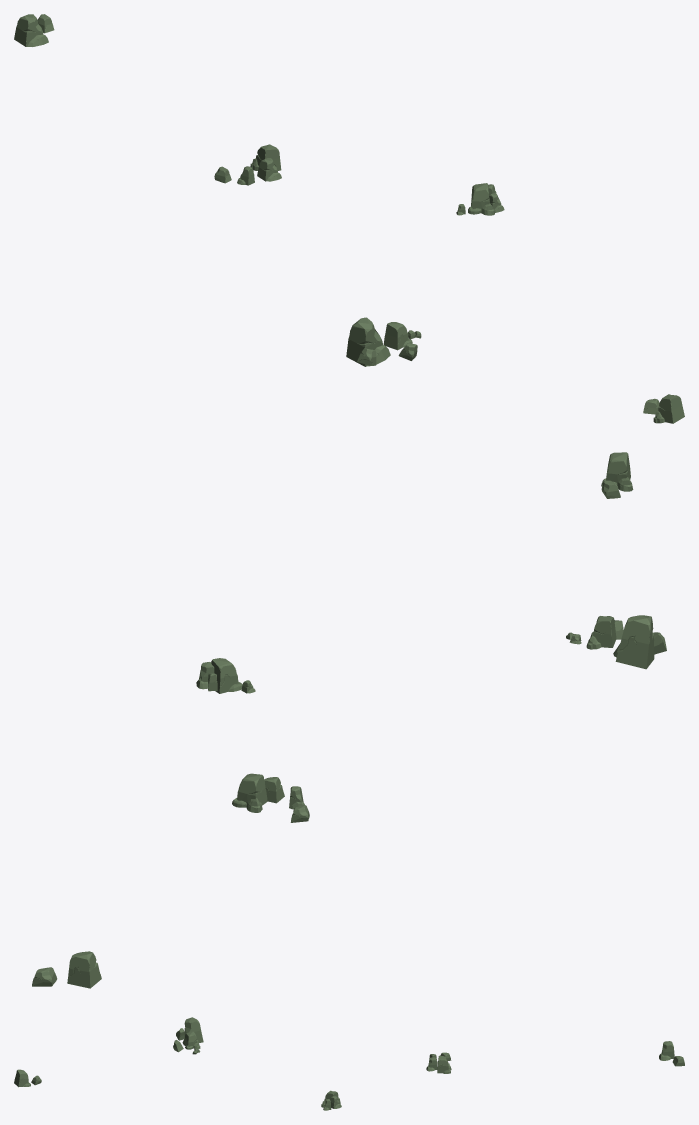
Rendered from Rock Blue.fbx.
3 views of the same model, one above another, from view 1: azimuth 30°, elevation 25°; view 2: azimuth 150°, elevation 25°; view 3: azimuth 270°, elevation 25° (orthographic). The views are drawn at different scales.
Visible parts, largest first — view 1: Rock_Blue.007, Rock_Blue.004, Rock_Blue.012, Rock_Blue.014; view 2: Rock_Blue.007, Rock_Blue, Rock_Blue.004, Rock_Blue.012; view 3: Rock_Blue.007, Rock_Blue.004, Rock_Blue.006, Rock_Blue.012, Rock_Blue.
Part boxes in pixels (left/top/right/bottom): Rock_Blue.007: left=346, top=317, right=390, bottom=366; Rock_Blue.004: left=14, top=14, right=48, bottom=46; Rock_Blue.012: left=653, top=394, right=684, bottom=423; Rock_Blue.014: left=468, top=183, right=494, bottom=215; Rock_Blue.007: left=613, top=615, right=654, bottom=669; Rock_Blue: left=232, top=773, right=267, bottom=812; Rock_Blue.004: left=67, top=951, right=101, bottom=988; Rock_Blue.012: left=601, top=452, right=633, bottom=491; Rock_Blue.007: left=182, top=1017, right=203, bottom=1045; Rock_Blue.004: left=659, top=1041, right=674, bottom=1060; Rock_Blue.006: left=184, top=1031, right=200, bottom=1049; Rock_Blue.012: left=14, top=1069, right=30, bottom=1087; Rock_Blue: left=437, top=1055, right=451, bottom=1073.
Bounding box in the file's own units: 3281 × 463 × 12010.
